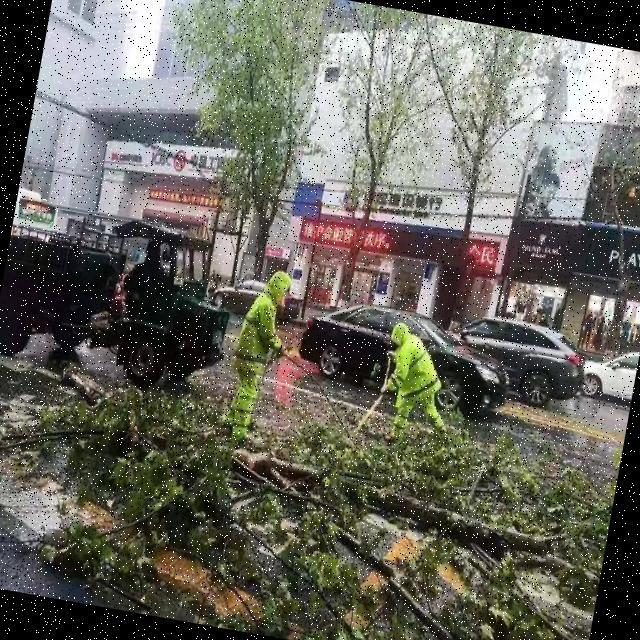fallen_object: (201, 440, 561, 564)
